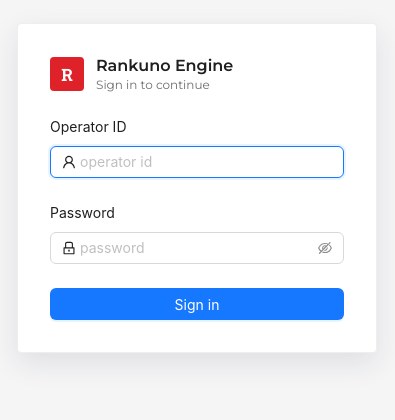
LoginScreen › shows a distinct message for a network failure
Type "op-1" into the field labelled "Operator ID" at (206, 162), box [80,151,332,173]
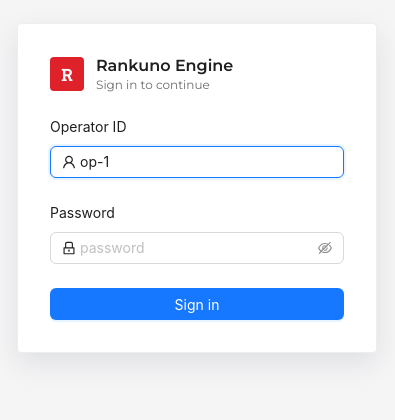
Type "pw" into the password field labelled "Password" at (197, 248), box [80,237,314,259]
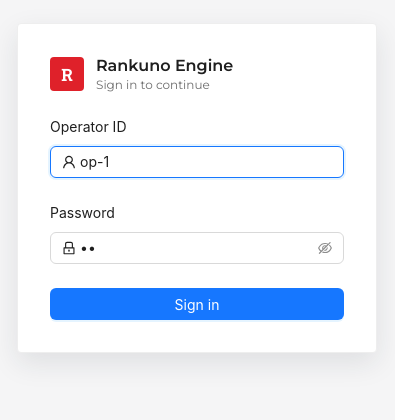
Click the button "Sign in" at (197, 304), box [50,288,344,320]
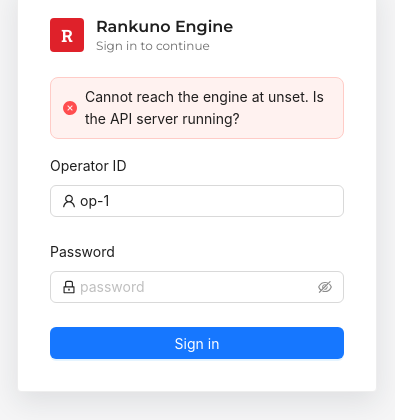
Now the text "Cannot reach the engine" is shown, box [85,88,324,127]
